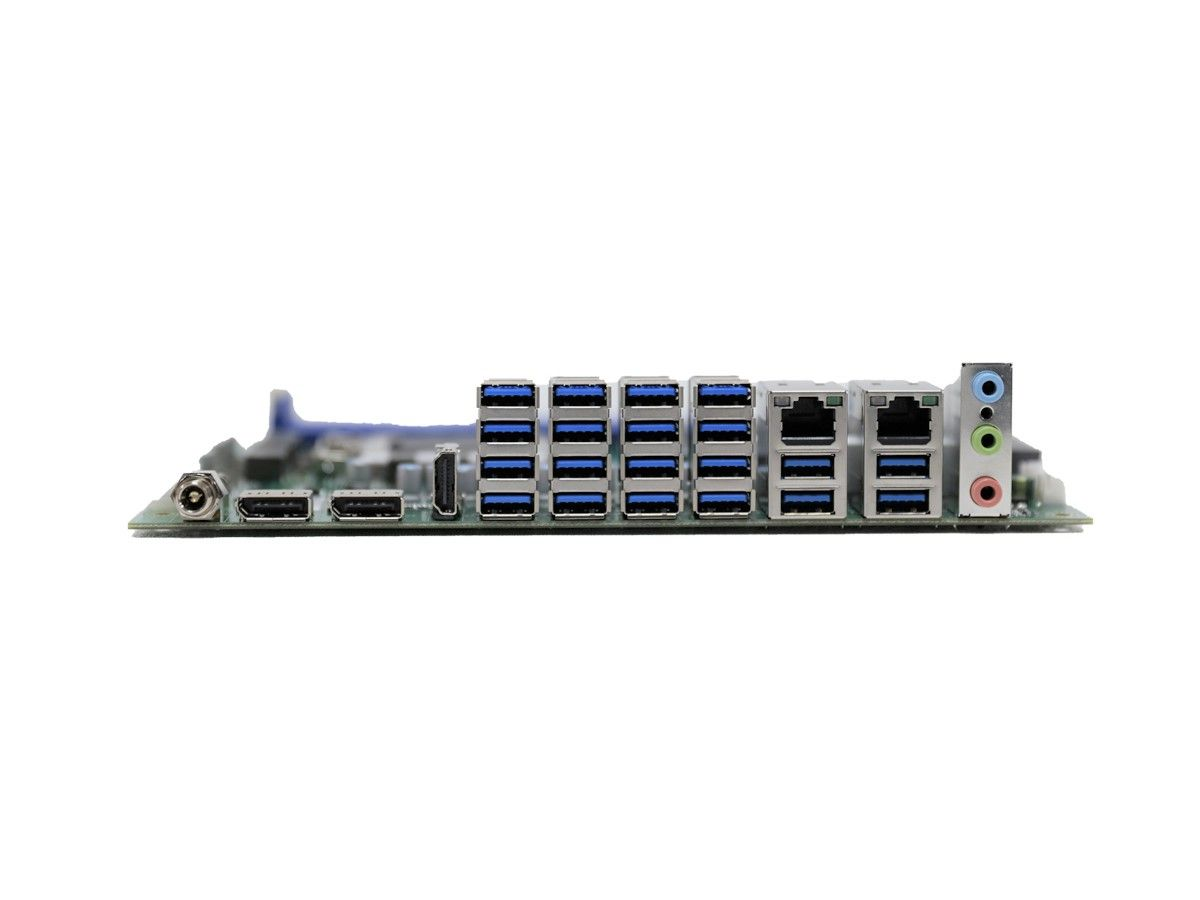Audio: (967, 465, 1007, 508), (972, 369, 1011, 411), (967, 419, 1010, 457)
Ethernet: (772, 388, 845, 452), (867, 391, 942, 451)
HDMI: (235, 492, 311, 525)
USB: (472, 378, 541, 413), (693, 414, 758, 444), (549, 456, 613, 486)
